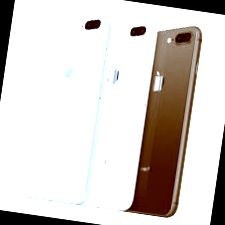iphone: (125, 14, 192, 209)
